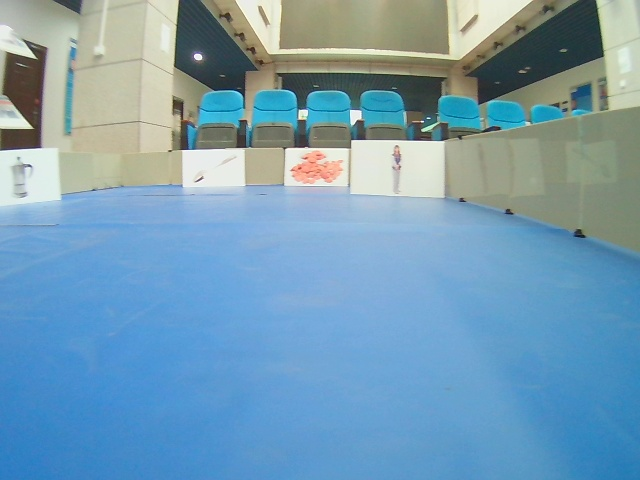dish: (1, 151, 61, 206), (181, 150, 245, 191)
food: (282, 146, 349, 190)
person: (350, 140, 445, 198)
